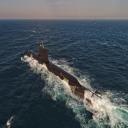submarine: (28, 41, 102, 109)
